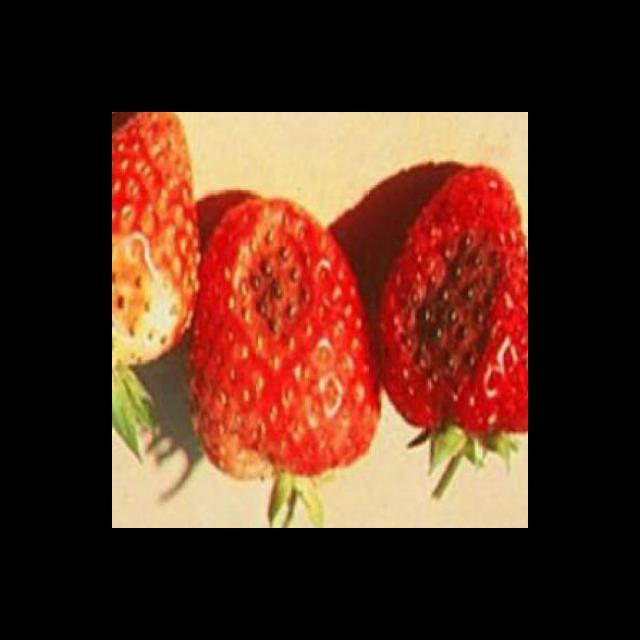Anthracnose Fruit Rot: (398, 230, 510, 400), (231, 214, 317, 352)
